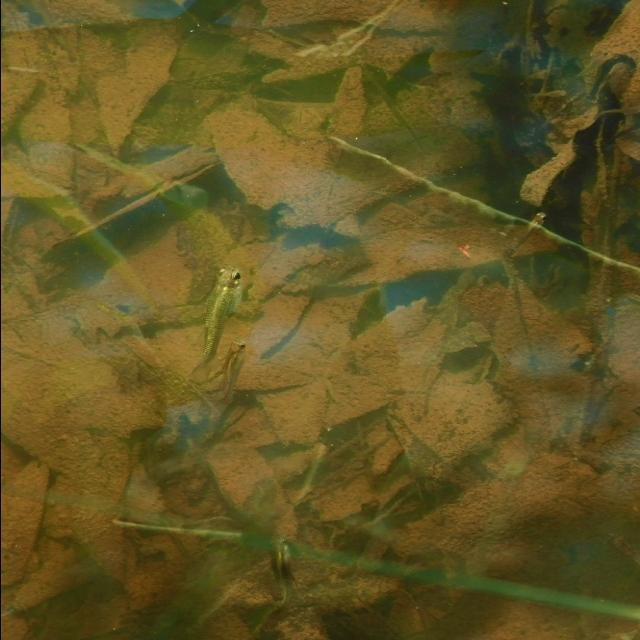Sivrisinek Baligi: (184, 265, 244, 375), (200, 344, 250, 425), (259, 526, 297, 606)
